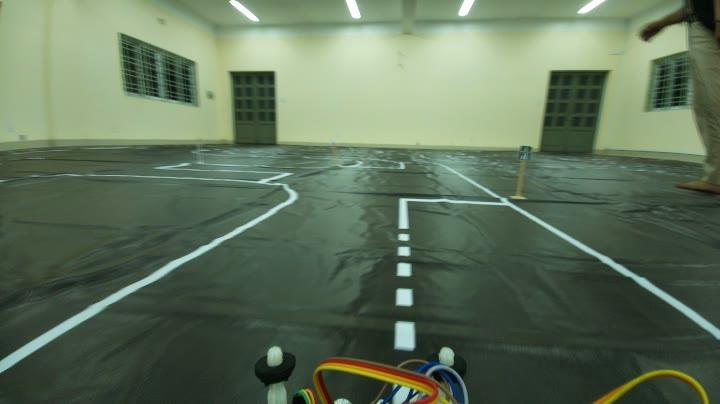highway_exit: (517, 142, 534, 164)
